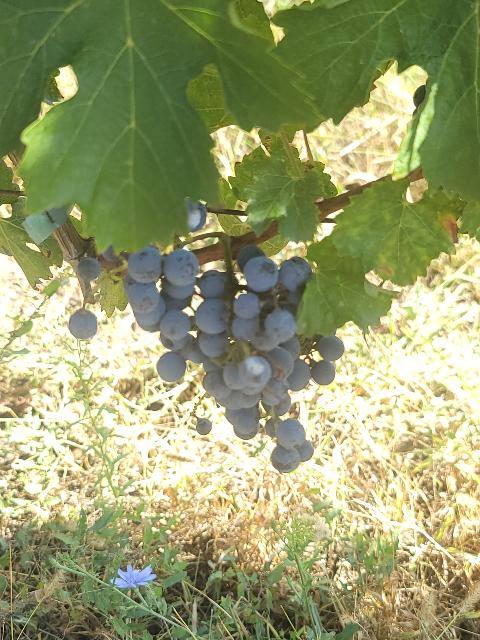grapes: (122, 245, 344, 472)
